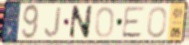9: (20, 3, 40, 42)
E: (121, 6, 147, 40)
J: (43, 6, 62, 39)
N: (68, 4, 95, 41)
O: (94, 5, 116, 39), (146, 6, 168, 40)
